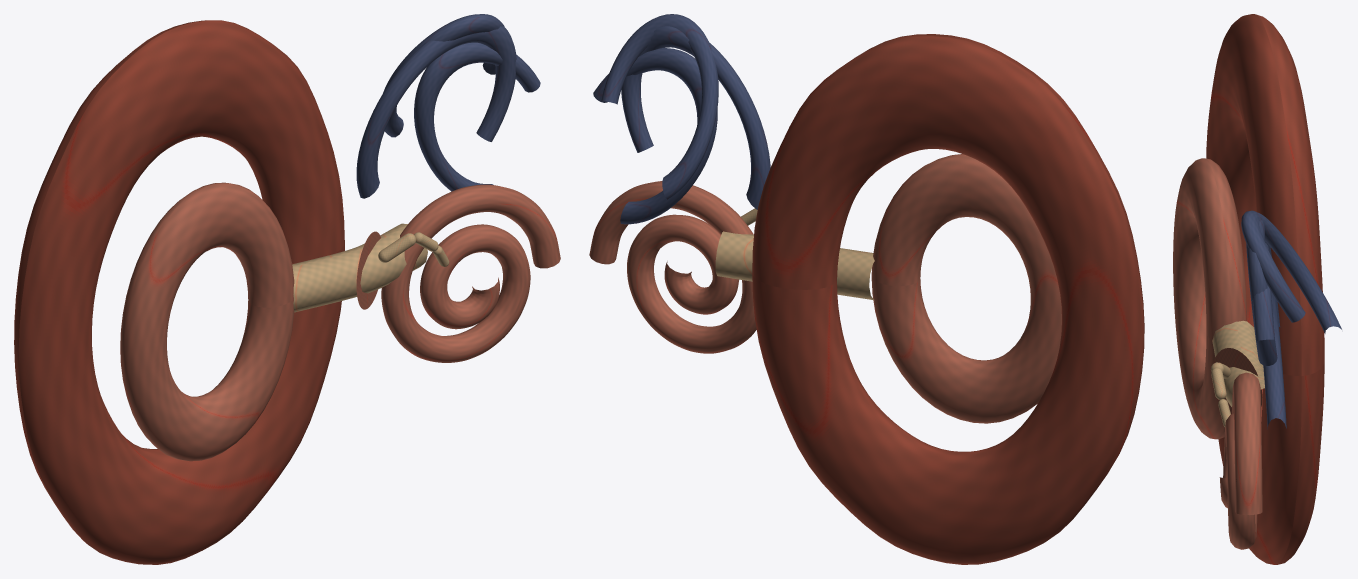
File: ear.beee05ec.glb
The picture shows the model from 3 angles, left to right: view 1: azimuth 30°, elevation 25°; view 2: azimuth 150°, elevation 25°; view 3: azimuth 270°, elevation 25°; orthographic projection.
Parts seen in each view (by area): view 1: procedural-ear-surface-1, procedural-ear-surface-2, procedural-ear-surface-8, procedural-ear-surface-9, procedural-ear-surface-3, procedural-ear-surface-10, procedural-ear-surface-11, procedural-ear-surface-4; view 2: procedural-ear-surface-1, procedural-ear-surface-2, procedural-ear-surface-8, procedural-ear-surface-11, procedural-ear-surface-9, procedural-ear-surface-10, procedural-ear-surface-3; view 3: procedural-ear-surface-1, procedural-ear-surface-2, procedural-ear-surface-8, procedural-ear-surface-11, procedural-ear-surface-10, procedural-ear-surface-3, procedural-ear-surface-9, procedural-ear-surface-4, procedural-ear-surface-6.
Boxes of the visible parts, left/top/right/bottom form: procedural-ear-surface-1: left=14, top=20, right=344, bottom=564; procedural-ear-surface-2: left=120, top=182, right=294, bottom=461; procedural-ear-surface-8: left=381, top=184, right=560, bottom=362; procedural-ear-surface-9: left=356, top=25, right=516, bottom=198; procedural-ear-surface-3: left=292, top=223, right=427, bottom=312; procedural-ear-surface-10: left=414, top=42, right=540, bottom=191; procedural-ear-surface-11: left=383, top=14, right=504, bottom=137; procedural-ear-surface-4: left=356, top=231, right=380, bottom=309; procedural-ear-surface-1: left=752, top=34, right=1144, bottom=564; procedural-ear-surface-2: left=871, top=154, right=1061, bottom=423; procedural-ear-surface-8: left=589, top=181, right=756, bottom=353; procedural-ear-surface-11: left=601, top=14, right=718, bottom=199; procedural-ear-surface-9: left=621, top=26, right=770, bottom=209; procedural-ear-surface-10: left=593, top=48, right=717, bottom=224; procedural-ear-surface-3: left=715, top=231, right=874, bottom=300; procedural-ear-surface-1: left=1206, top=14, right=1324, bottom=564; procedural-ear-surface-2: left=1173, top=158, right=1246, bottom=439; procedural-ear-surface-8: left=1219, top=372, right=1262, bottom=549; procedural-ear-surface-11: left=1241, top=210, right=1341, bottom=333; procedural-ear-surface-10: left=1252, top=242, right=1286, bottom=429; procedural-ear-surface-3: left=1212, top=320, right=1264, bottom=406; procedural-ear-surface-9: left=1246, top=220, right=1280, bottom=365; procedural-ear-surface-4: left=1213, top=348, right=1262, bottom=414; procedural-ear-surface-6: left=1211, top=367, right=1226, bottom=399.
Size of the model in its own units: 3.22 by 2.97 by 0.8777.
Materials: 4 (4 with a texture image).
